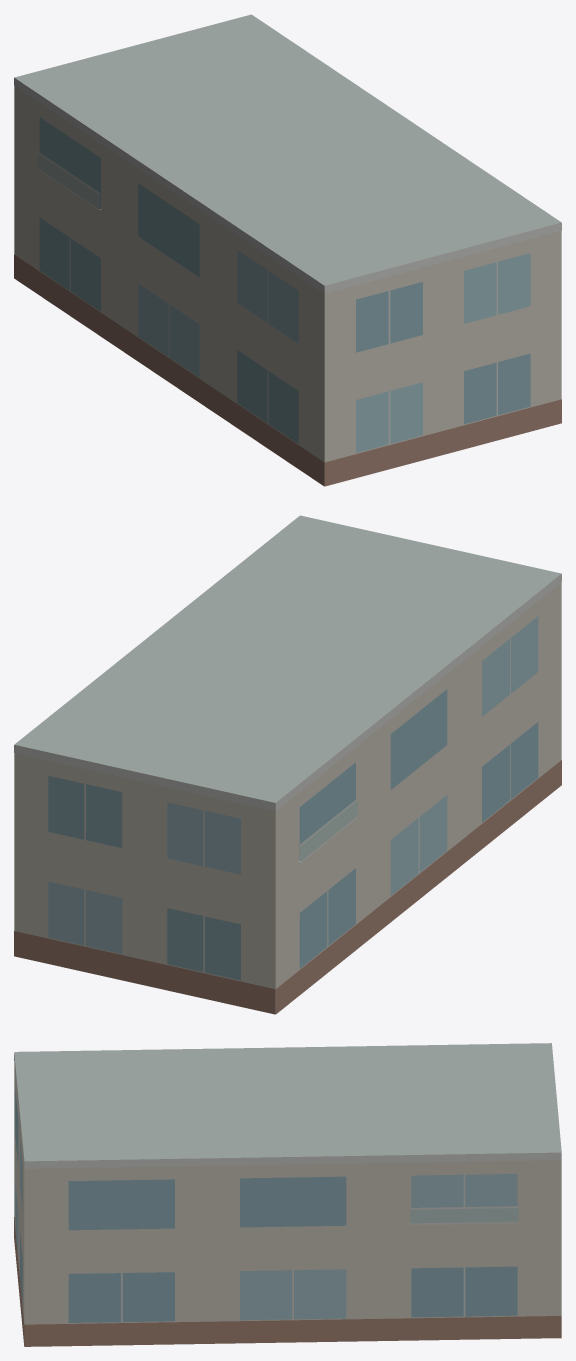
Rendered from survey-upis-32697233.glb.
3 renders of one model, top to bottom at view 1: azimuth 30°, elevation 25°; view 2: azimuth 150°, elevation 25°; view 3: azimuth 270°, elevation 25°, orthographic. The views are drawn at different scales.
Visible parts, largest first — view 1: survey-upis-32697233.tmp; view 2: survey-upis-32697233.tmp; view 3: survey-upis-32697233.tmp.
Boxes of the visible parts, box(x1,y1,x2,y2) form: survey-upis-32697233.tmp: box(14, 14, 561, 486); survey-upis-32697233.tmp: box(14, 515, 561, 1014); survey-upis-32697233.tmp: box(14, 1043, 561, 1346).
Size of the model in its own units: 8.35 by 6.1 by 16.33.
